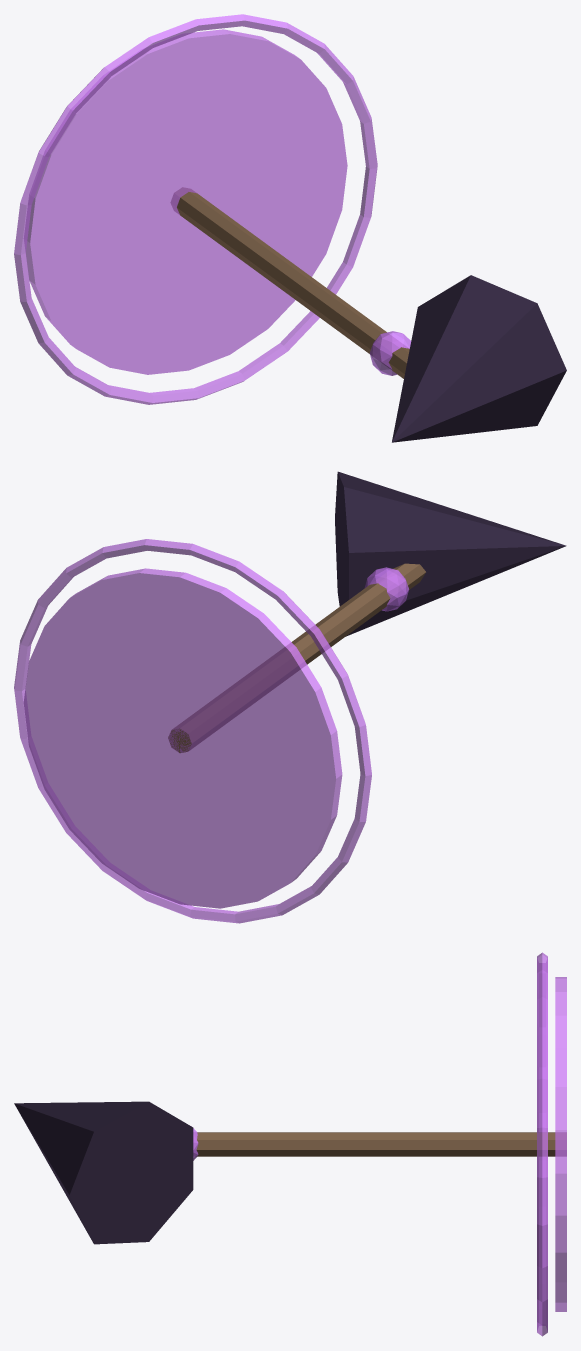
File: weapon_pickup_scythe_epic.glb
3 renders of one model, top to bottom at view 1: azimuth 30°, elevation 25°; view 2: azimuth 150°, elevation 25°; view 3: azimuth 270°, elevation 25°, orthographic. The views are drawn at different scales.
Visible parts, largest first — view 1: rarity_base_disc, curved_blade, rarity_orbit_ring, shaft, void_gem; view 2: rarity_base_disc, curved_blade, rarity_orbit_ring, shaft, void_gem; view 3: curved_blade, shaft, rarity_orbit_ring, rarity_base_disc.
Part boxes in pixels (box(x1,y1,x2,y2)): rarity_base_disc: box(24, 29, 347, 374); curved_blade: box(392, 275, 566, 442); rarity_orbit_ring: box(14, 14, 377, 404); shaft: box(171, 187, 409, 378); void_gem: box(369, 331, 411, 375); rarity_base_disc: box(23, 568, 342, 908); curved_blade: box(335, 471, 566, 636); rarity_orbit_ring: box(14, 539, 371, 923); shaft: box(168, 563, 425, 752); void_gem: box(364, 567, 408, 611); curved_blade: box(14, 1101, 193, 1244); shaft: box(196, 1132, 566, 1156); rarity_orbit_ring: box(537, 952, 547, 1336); rarity_base_disc: box(555, 977, 566, 1311).
Bounding box in the file's own units: 1.65 × 1.65 × 2.37.
